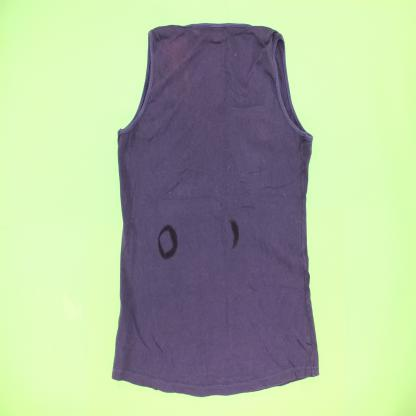stain: (157, 223, 179, 261), (224, 216, 240, 253)
